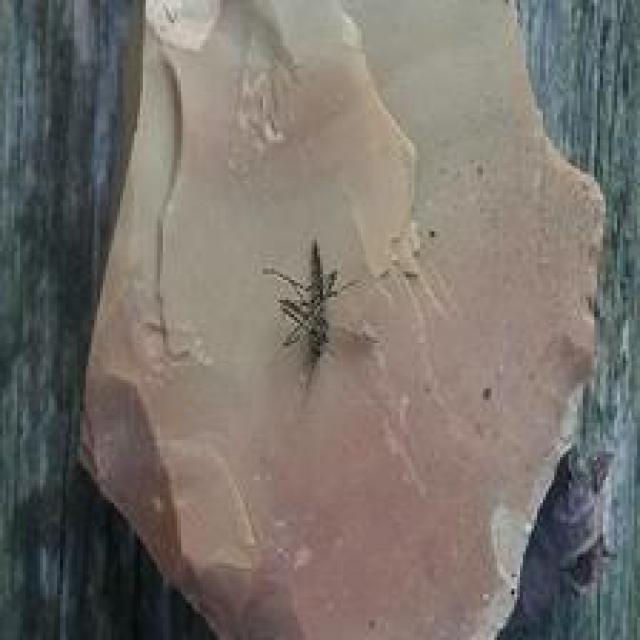Aedes albopictus: (262, 237, 367, 392)
